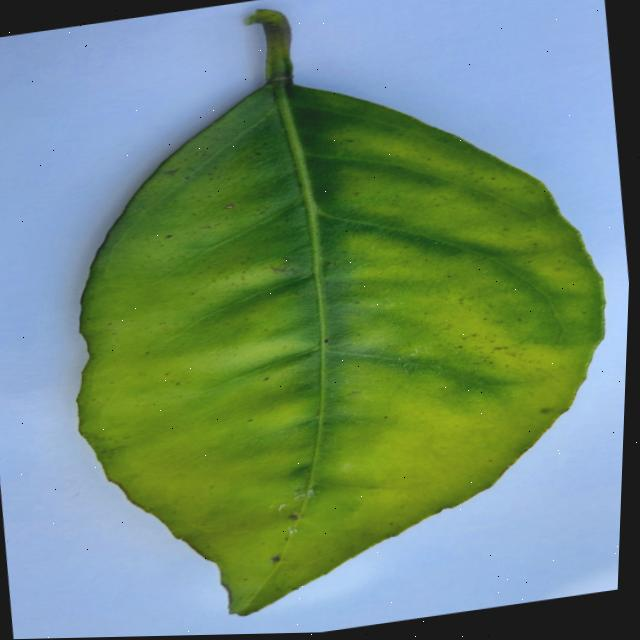greening: (78, 9, 602, 615)
